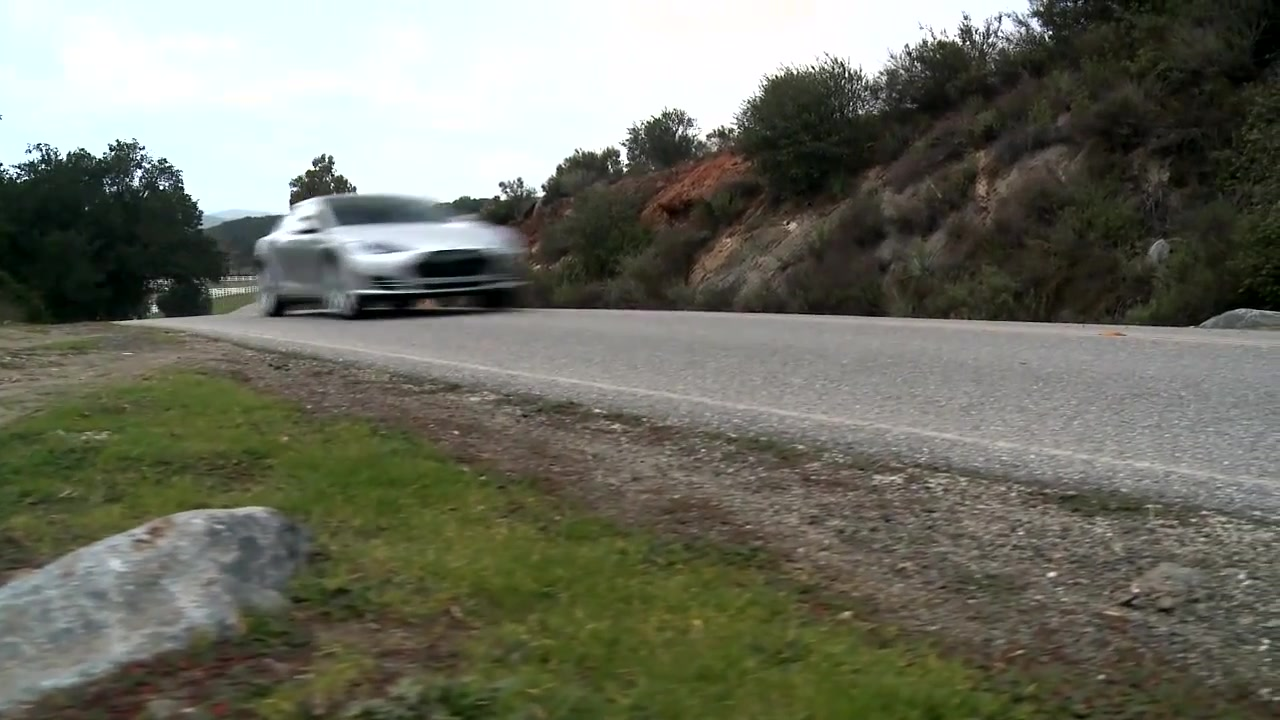car: (253, 187, 538, 320)
